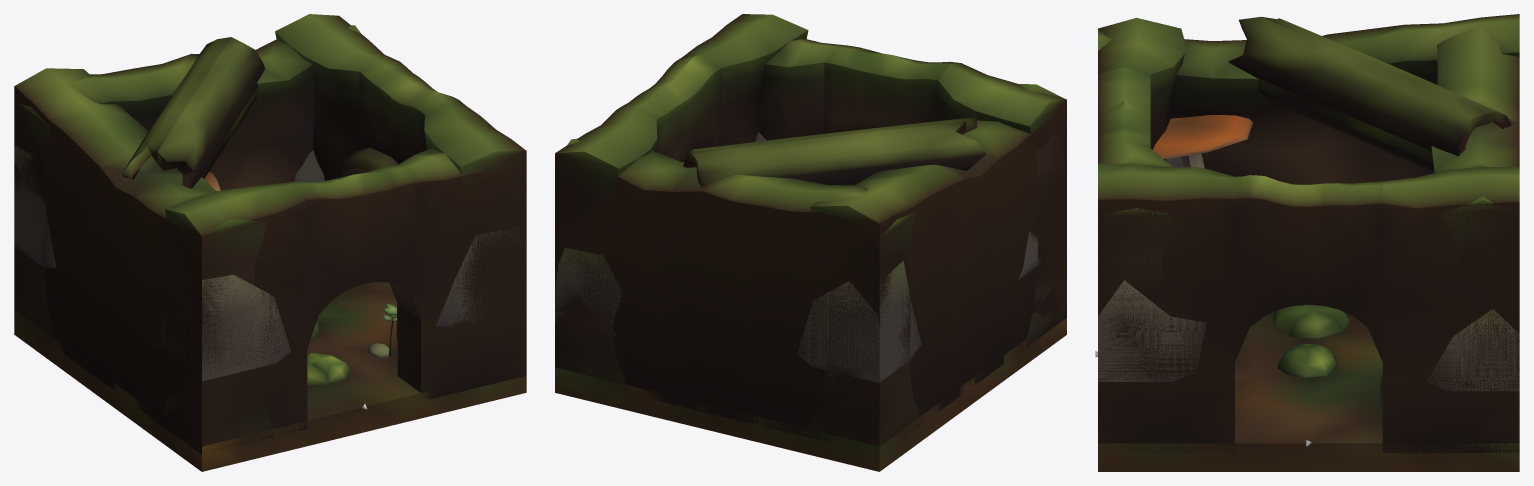
File: mossy_turn.fbx
3 views of the same model, side by side, from view 1: azimuth 30°, elevation 25°; view 2: azimuth 150°, elevation 25°; view 3: azimuth 270°, elevation 25° (orthographic). The views are drawn at different scales.
Parts seen in each view (by area): view 1: COL_WallW_01, COL_WallS_01, COL_Floor, COL_WallN_01, COL_WallS_02, COL_WallS_03, COL_WallE_01, COL_Corner_01, COL_Log_03, COL_WallE_03, COL_WallE_02, COL_Corner_04 (+6 smaller); view 2: COL_WallN_01, COL_WallW_01, COL_WallE_01, COL_Floor, COL_Log_02, COL_WallS_02, COL_Corner_04, COL_WallS_03, COL_WallE_02, COL_WallE_03, COL_WallS_01, COL_Corner_03 (+2 smaller); view 3: COL_WallE_01, COL_WallE_02, COL_Floor, COL_WallW_01, COL_WallE_03, COL_WallN_01, COL_Log_03, COL_WallS_01, COL_Corner_02, COL_WallS_02, COL_Corner_03, COL_WallS_03 (+5 smaller).
Part boxes in pixels (x1=…): COL_WallW_01: x1=14, y1=68, x2=273, y2=454; COL_WallS_01: x1=397, y1=148, x2=526, y2=399; COL_Floor: x1=14, y1=282, x2=526, y2=471; COL_WallN_01: x1=14, y1=25, x2=360, y2=338; COL_WallS_02: x1=164, y1=183, x2=307, y2=443; COL_WallS_03: x1=284, y1=165, x2=420, y2=347; COL_WallE_01: x1=275, y1=14, x2=399, y2=180; COL_Corner_01: x1=153, y1=269, x2=290, y2=381; COL_Log_03: x1=157, y1=37, x2=265, y2=188; COL_WallE_03: x1=359, y1=60, x2=464, y2=163; COL_WallE_02: x1=424, y1=102, x2=526, y2=308; COL_Corner_04: x1=14, y1=145, x2=56, y2=268; COL_WallN_01: x1=555, y1=138, x2=921, y2=447; COL_WallW_01: x1=808, y1=84, x2=1066, y2=447; COL_WallE_01: x1=555, y1=108, x2=657, y2=392; COL_Floor: x1=555, y1=318, x2=1066, y2=471; COL_Log_02: x1=691, y1=121, x2=986, y2=186; COL_WallS_02: x1=938, y1=63, x2=1066, y2=347; COL_Corner_04: x1=797, y1=260, x2=921, y2=382; COL_WallS_03: x1=824, y1=45, x2=960, y2=133; COL_WallE_02: x1=682, y1=14, x2=808, y2=145; COL_WallE_03: x1=616, y1=54, x2=721, y2=162; COL_WallS_01: x1=758, y1=39, x2=847, y2=140; COL_Corner_03: x1=555, y1=247, x2=622, y2=336; COL_WallE_01: x1=1382, y1=167, x2=1519, y2=452; COL_WallE_02: x1=1098, y1=163, x2=1234, y2=452; COL_Floor: x1=1098, y1=311, x2=1519, y2=471; COL_WallW_01: x1=1098, y1=14, x2=1519, y2=184; COL_WallE_03: x1=1235, y1=175, x2=1382, y2=361; COL_WallN_01: x1=1426, y1=22, x2=1519, y2=452; COL_Log_03: x1=1228, y1=17, x2=1487, y2=156; COL_WallS_01: x1=1098, y1=140, x2=1185, y2=452; COL_Corner_02: x1=1098, y1=280, x2=1206, y2=381; COL_WallS_02: x1=1098, y1=17, x2=1184, y2=160; COL_Corner_03: x1=1426, y1=309, x2=1519, y2=391; COL_WallS_03: x1=1098, y1=66, x2=1150, y2=148.
Size of the model in its own units: 8050 by 6123 by 8050.
